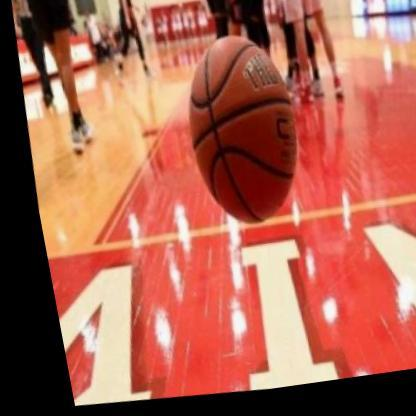basketball: (158, 27, 317, 248)
